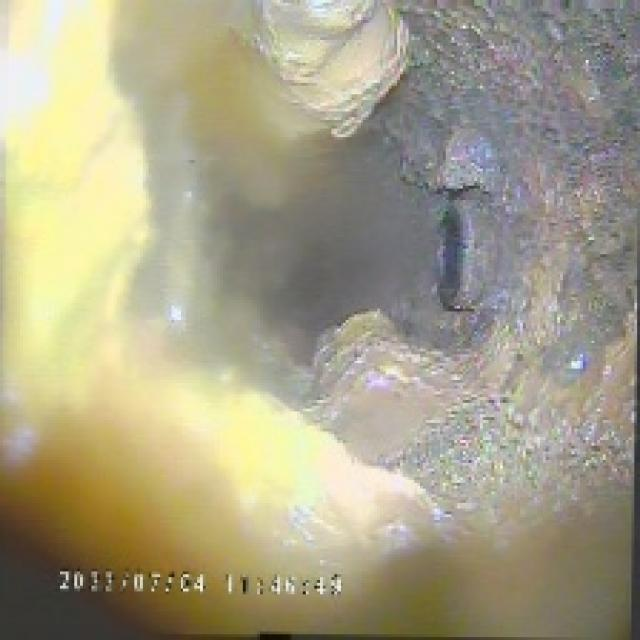encrustation: (229, 0, 594, 437)
ferrule: (423, 186, 497, 323)
